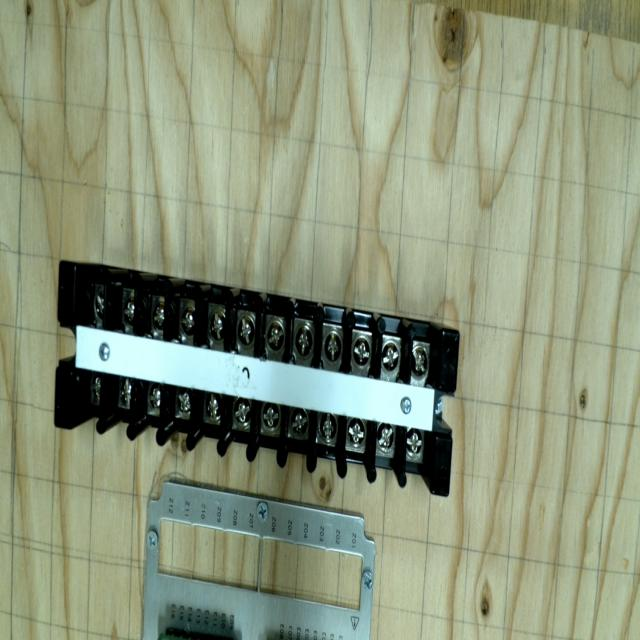Phillips_Block: (32, 262, 476, 496)
